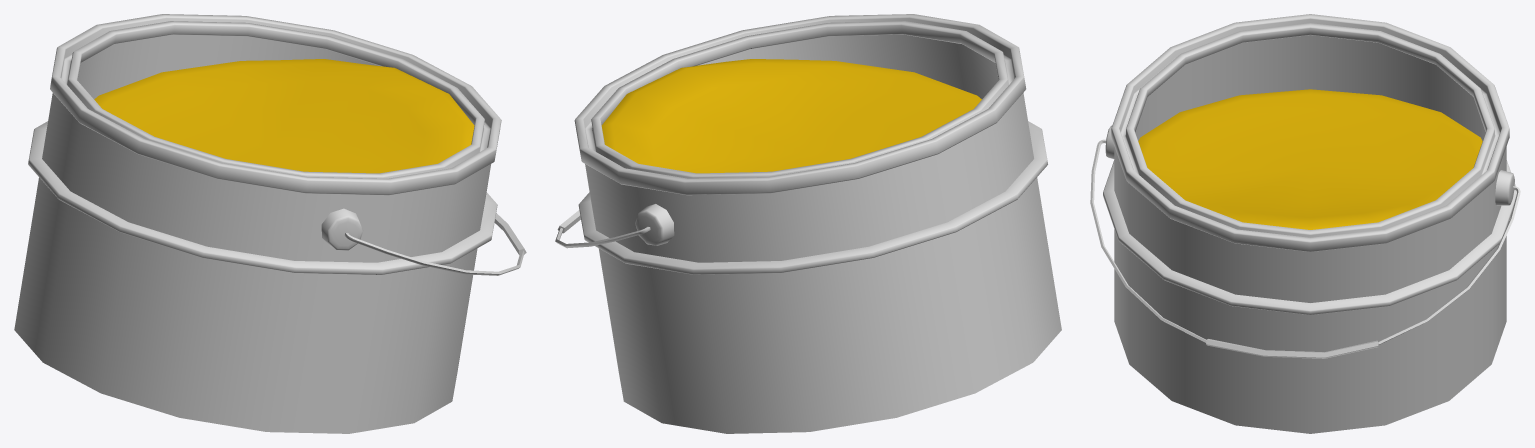
Rendered from Bucket.fbx.
3 views of the same model, side by side, from view 1: azimuth 30°, elevation 25°; view 2: azimuth 150°, elevation 25°; view 3: azimuth 270°, elevation 25° (orthographic). The views are drawn at different scales.
Visible parts, largest first — view 1: Bucket, Paint; view 2: Bucket, Paint; view 3: Bucket, Paint.
Part boxes in pixels (x1,y1,x2,y2): Bucket: [14, 14, 526, 433]; Paint: [94, 59, 474, 173]; Bucket: [555, 14, 1061, 433]; Paint: [601, 59, 981, 173]; Bucket: [1090, 14, 1520, 433]; Paint: [1138, 89, 1482, 229].
Size of the model in its own units: 84.27 by 56.76 by 81.02.
